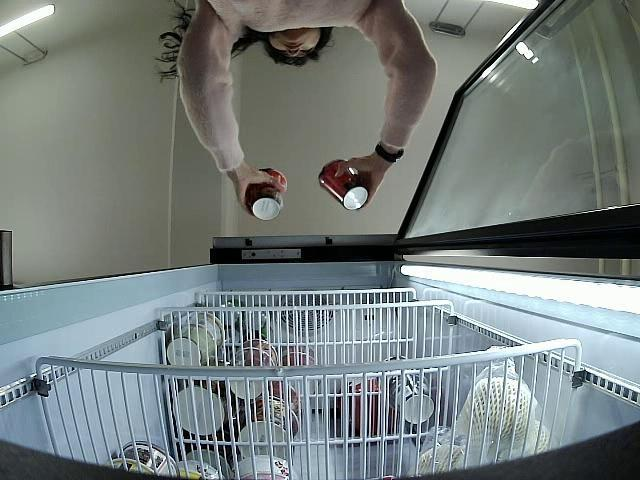02_shinRamen_S: (319, 160, 370, 212), (248, 168, 286, 220)
